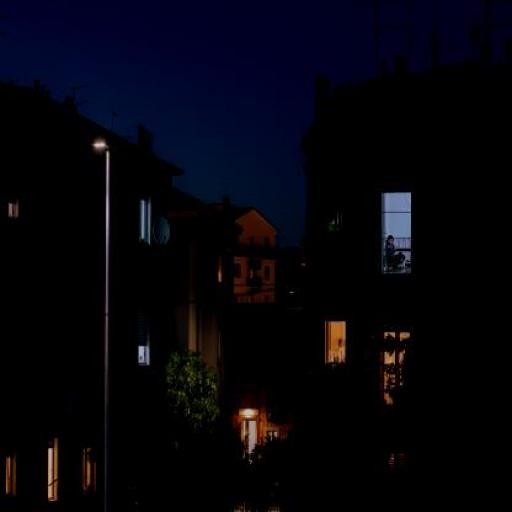acesa: (236, 399, 264, 425), (89, 135, 115, 154)
